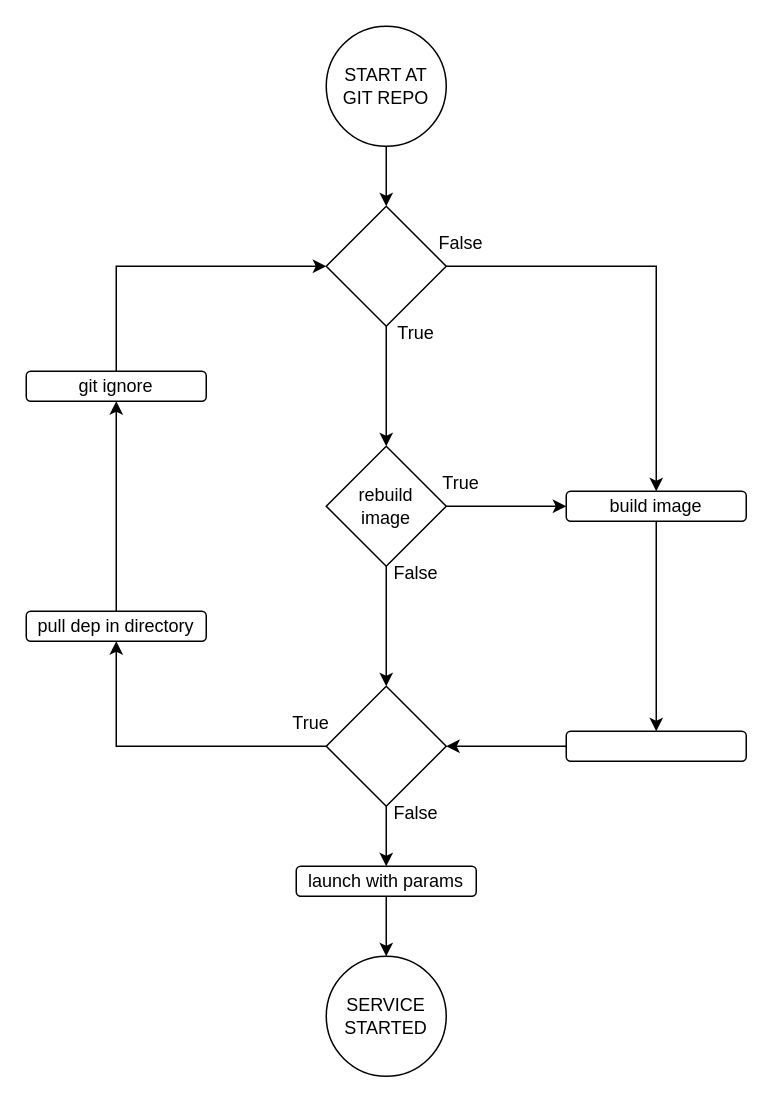
The diagram is 773 pixels wide and 1103 high, and some of its shapes have lost their labels. Here are the shapes that lost their labels. From the top down, the box of each, then its label:
(325, 205, 446, 326): image exists
(325, 685, 446, 806): dependencies
(565, 730, 746, 761): push to docker hub
